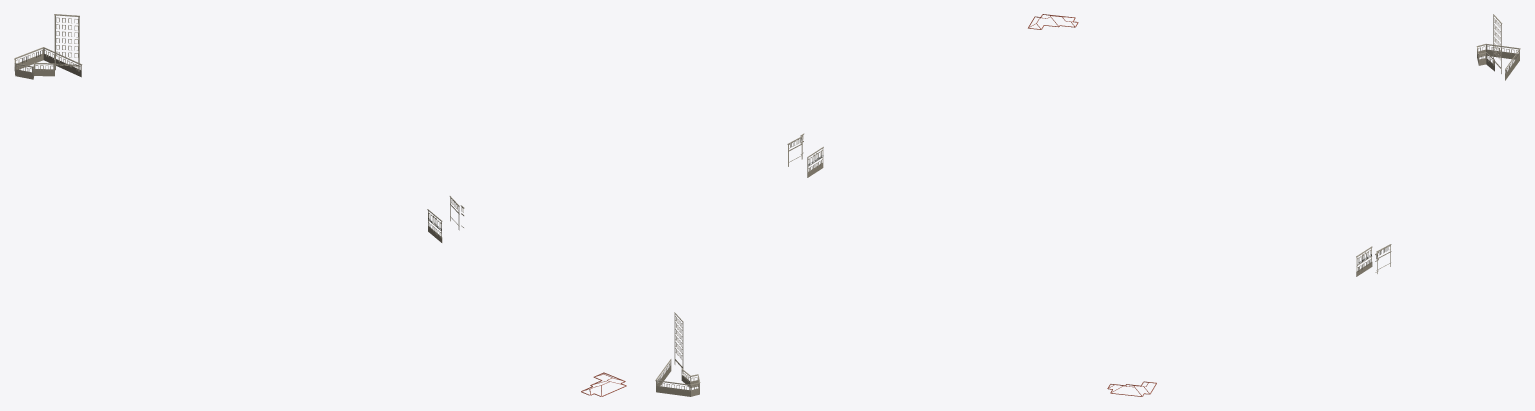
3 views of the same model, side by side, from view 1: azimuth 30°, elevation 25°; view 2: azimuth 150°, elevation 25°; view 3: azimuth 330°, elevation 25° (orthographic). The views are drawn at different scales.
Visible parts, largest first — view 1: detail; view 2: detail; view 3: detail.
Boxes of the visible parts, x1,y1,x2,y2 form: detail: (14, 14, 626, 396); detail: (655, 14, 1078, 396); detail: (1107, 14, 1520, 396).
Bounding box in the file's own units: 87.77 × 30.83 × 447.
